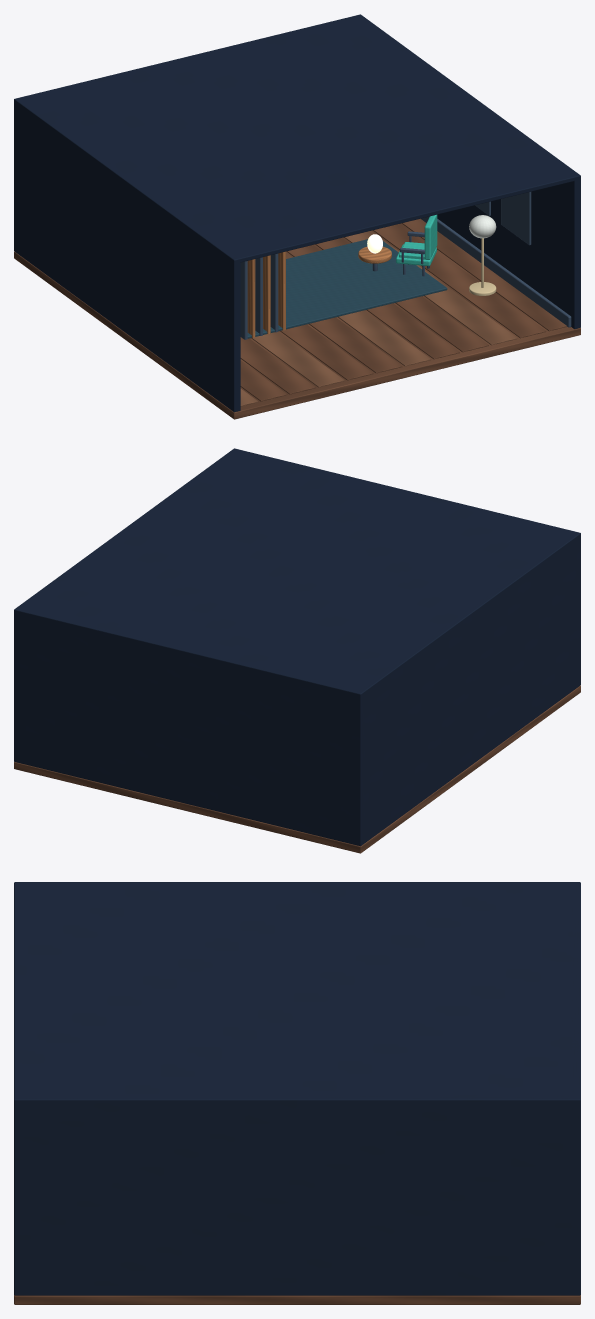
3 views of the same model, one above another, from view 1: azimuth 30°, elevation 25°; view 2: azimuth 150°, elevation 25°; view 3: azimuth 270°, elevation 25° (orthographic). The views are drawn at different scales.
Parts seen in each view (by area): view 1: Personal_Ceiling, Personal_LeftWall, Personal_RightWall, Personal_Rug, Personal_Floor, Personal_FloorPlank_10, Personal_FloorPlank_11, Personal_FloorPlank_9, Personal_FloorPlank_7, Personal_FloorPlank_8, Personal_FloorPlank_6, Personal_FloorPlank_5 (+15 smaller); view 2: Personal_Ceiling, Personal_BackWall, Personal_LeftWall, Personal_Floor, Personal_RightWall; view 3: Personal_Ceiling, Personal_RightWall, Personal_Floor, Personal_BackWall, Personal_LeftWall.
Part boxes in pixels (x1,y1,x2,y2): Personal_Ceiling: (15,15,580,263); Personal_LeftWall: (14,99,240,412); Personal_RightWall: (356,15,580,329); Personal_Rug: (247,239,447,338); Personal_Floor: (14,223,580,419); Personal_FloorPlank_10: (373,224,546,338); Personal_FloorPlank_11: (402,218,567,331); Personal_FloorPlank_9: (344,231,517,345); Personal_FloorPlank_7: (286,245,459,359); Personal_FloorPlank_8: (315,238,488,352); Personal_FloorPlank_6: (286,253,431,366); Personal_FloorPlank_5: (309,317,402,373); Personal_Ceiling: (16,448,580,696); Personal_BackWall: (14,608,364,846); Personal_LeftWall: (354,532,580,845); Personal_Floor: (14,685,580,853); Personal_RightWall: (14,448,239,732); Personal_Ceiling: (14,882,580,1104); Personal_RightWall: (14,1095,580,1295); Personal_Floor: (14,1295,580,1304); Personal_BackWall: (571,882,580,1295); Personal_LeftWall: (14,882,579,885).
Size of the model in its own units: 10 by 4.4 by 11.
Materials: 17 (11 with a texture image).
